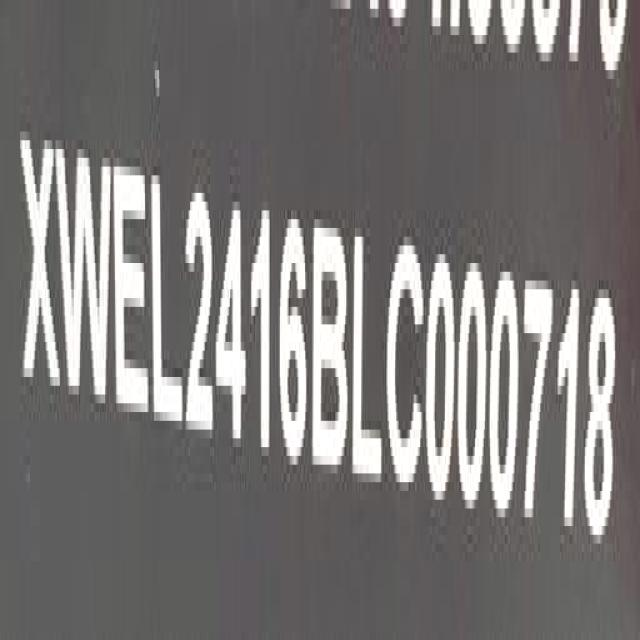0: (490, 268, 520, 525), (460, 254, 489, 512), (426, 242, 453, 504)
1: (556, 276, 580, 539), (253, 199, 275, 467)
2: (187, 182, 216, 449)
4: (215, 193, 248, 457)
6: (278, 201, 310, 468)
7: (523, 270, 552, 538)
8: (583, 279, 615, 542)
B: (312, 211, 348, 482)
C: (388, 228, 424, 488)
E: (114, 153, 152, 430)
L: (353, 228, 387, 496), (151, 173, 184, 440)
W: (56, 129, 112, 420)
X: (18, 123, 58, 409)
